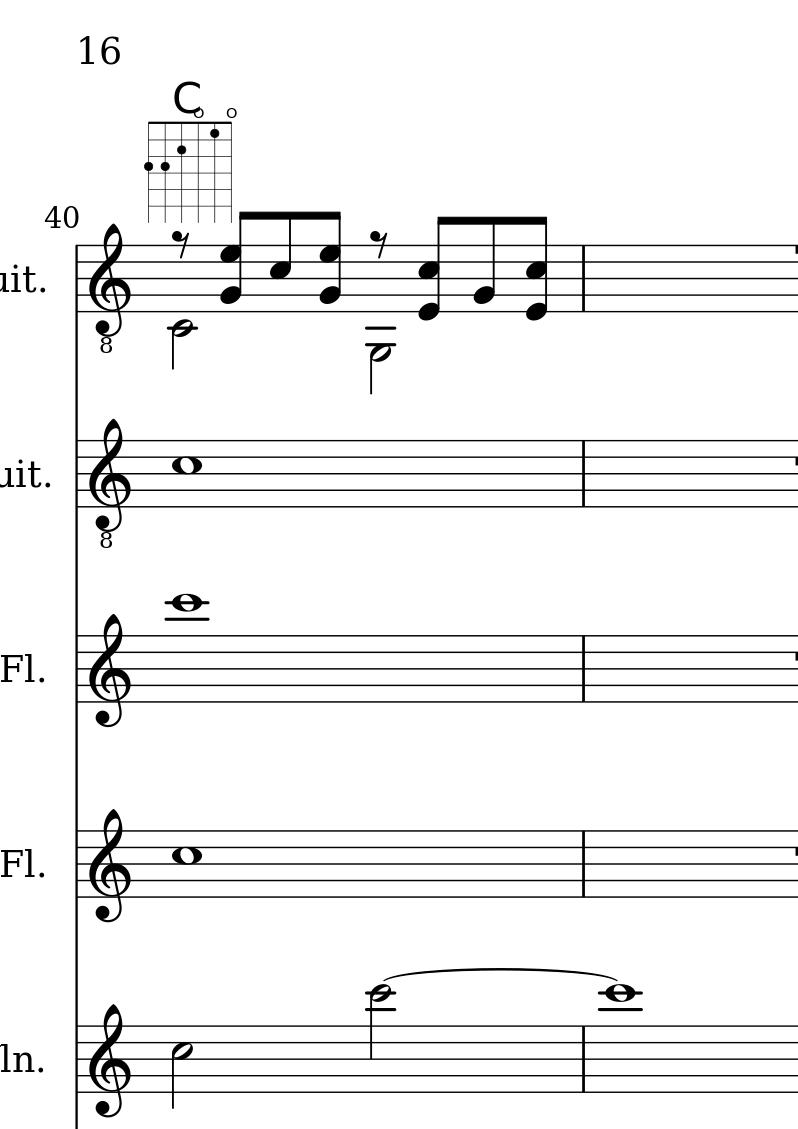0: (62, 203, 79, 231)
1: (78, 32, 96, 67)
1_12: (166, 591, 206, 707), (600, 981, 639, 1097)
1_5: (169, 828, 203, 899), (170, 438, 201, 510)
2_-2: (168, 244, 195, 373)
2_-5: (366, 242, 394, 397)
2_12: (367, 983, 395, 1096)
2_5: (169, 1023, 194, 1111)
4: (43, 203, 62, 231)
8_0_5: (417, 215, 449, 323), (523, 215, 550, 321)
8_2: (472, 215, 500, 317)
8_2_7: (218, 210, 254, 315), (319, 211, 343, 314)
8_5: (267, 209, 295, 315)
Fl: (1, 648, 36, 687), (1, 844, 36, 882)
Fretboard: (143, 117, 238, 224)
Gclef: (85, 612, 134, 730), (86, 808, 133, 925), (86, 1002, 131, 1120)
Lower_Gclef: (86, 222, 134, 354), (86, 417, 134, 549)
Rests8: (366, 225, 391, 263), (169, 228, 191, 260)
Single_barline: (574, 245, 591, 311), (575, 1026, 592, 1091), (575, 830, 591, 896), (575, 441, 591, 506), (70, 440, 85, 509), (70, 830, 85, 898), (70, 635, 85, 702), (70, 1025, 85, 1092), (576, 636, 591, 701), (70, 246, 83, 313)
Slur: (381, 968, 618, 985)
